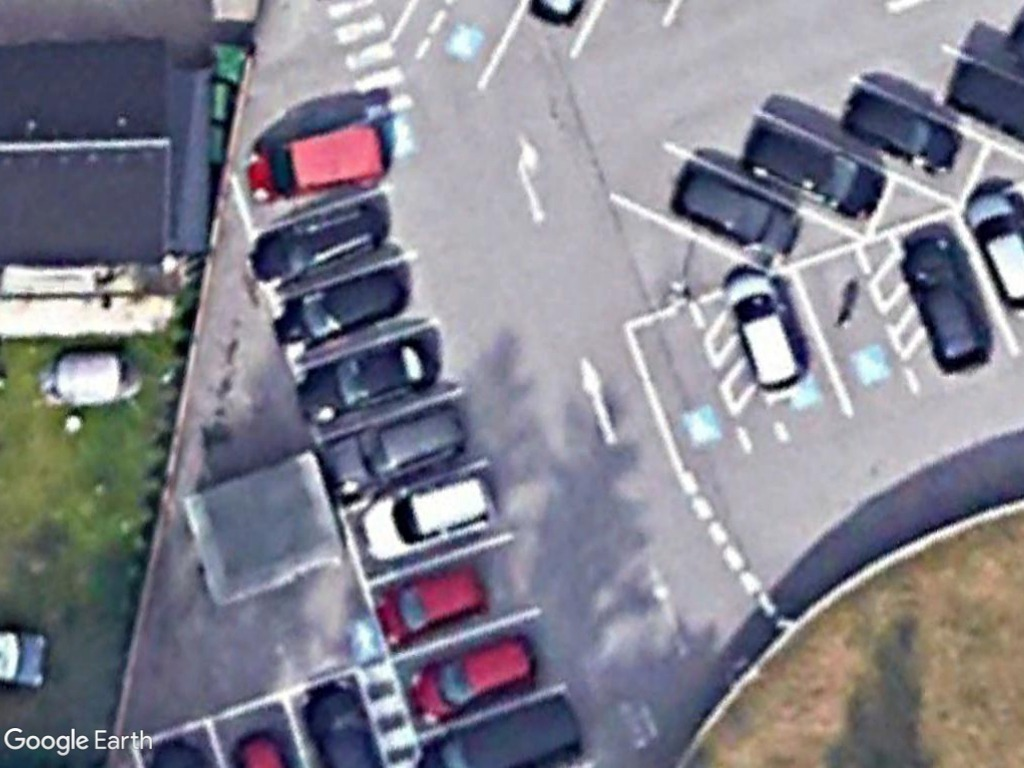car: (319, 395, 471, 511), (286, 325, 444, 433), (264, 254, 414, 366), (243, 188, 392, 299), (737, 121, 889, 227), (667, 157, 806, 267), (353, 467, 501, 570), (401, 624, 541, 731), (896, 229, 993, 375), (718, 262, 812, 397), (835, 81, 964, 179)
van: (242, 116, 388, 210)
